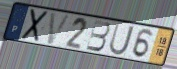2: (64, 17, 89, 51)
6: (131, 28, 154, 59)
B: (84, 19, 111, 53)
U: (107, 22, 136, 56)
V: (46, 11, 73, 46)
X: (19, 8, 50, 44)
